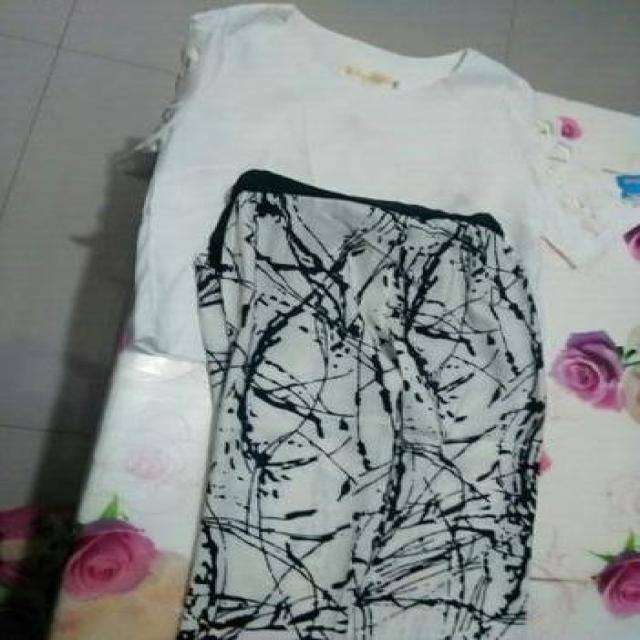short sleeve top: (137, 5, 604, 366)
trousers: (181, 171, 536, 639)
